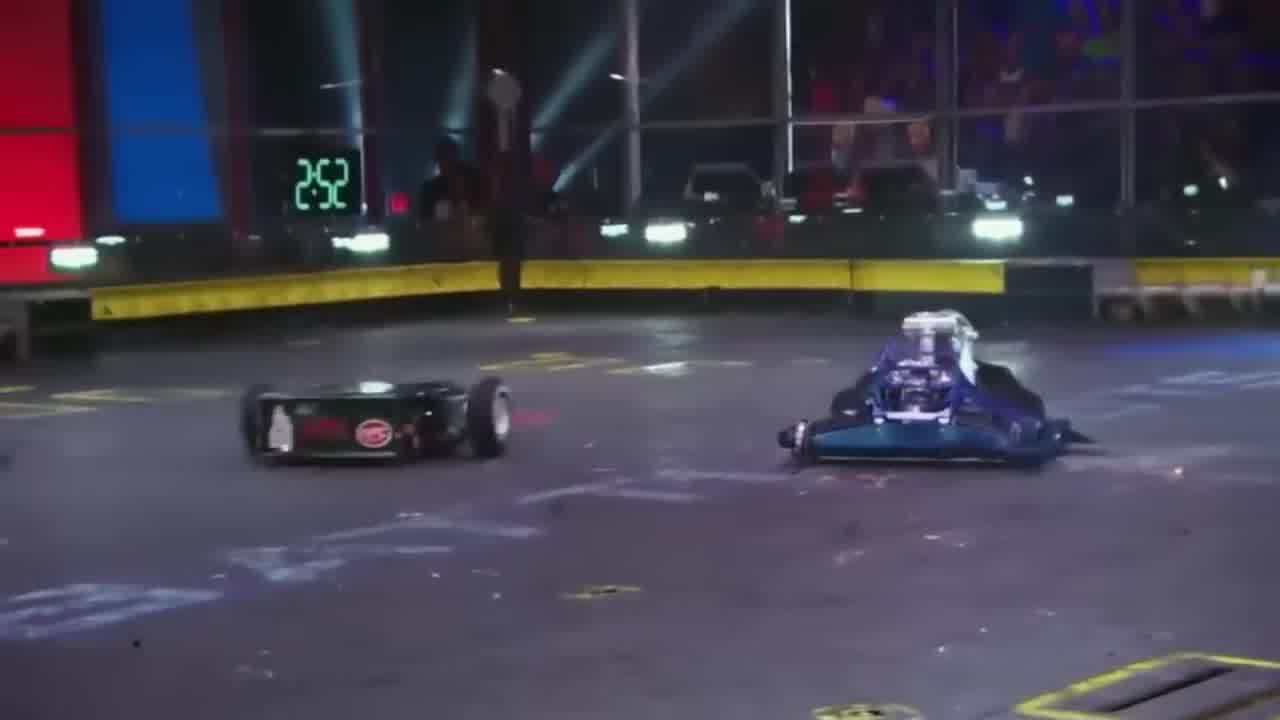combatbot: (778, 311, 1099, 471), (238, 374, 515, 473)
